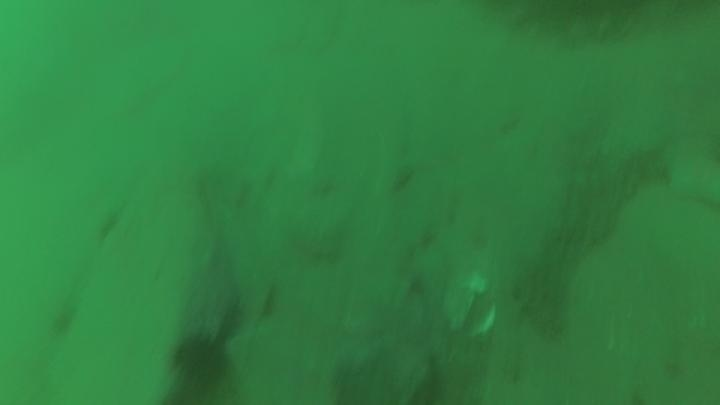echinus: (165, 325, 237, 396)
